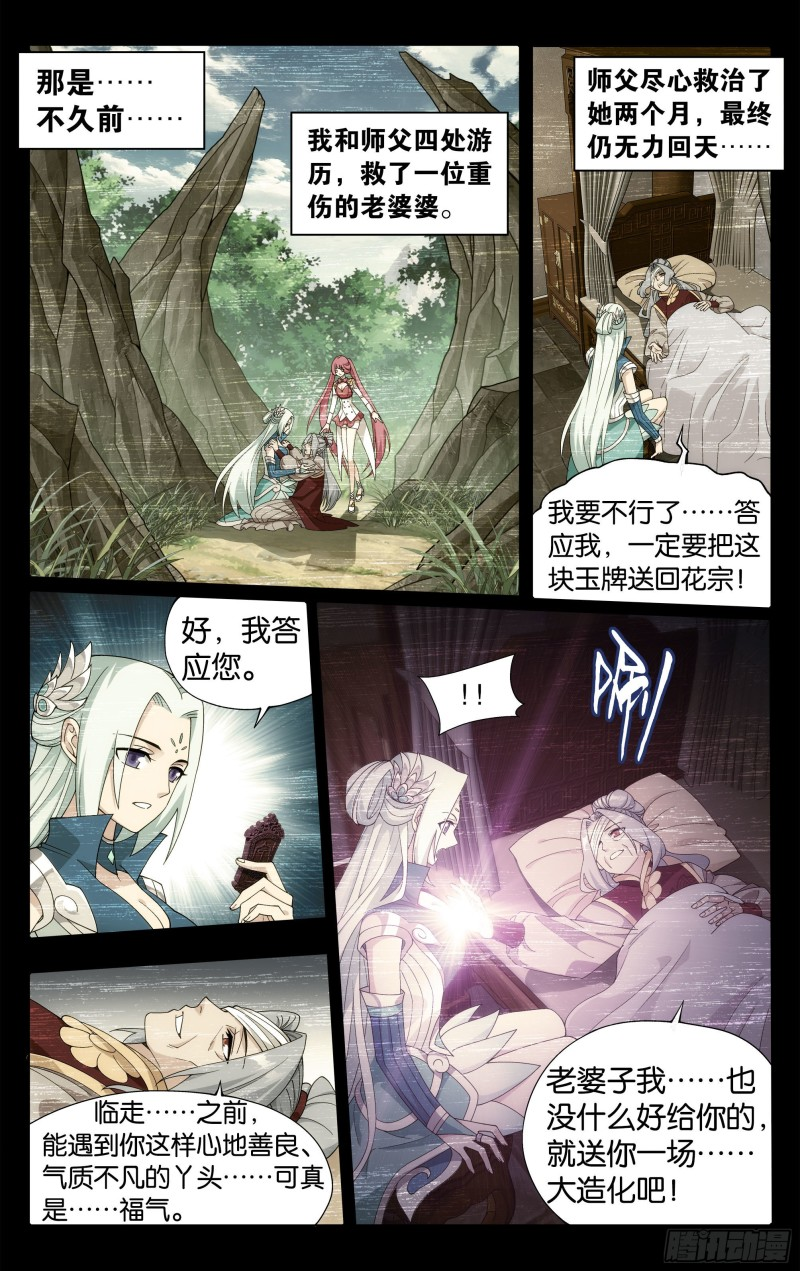boxBomb: (417, 649, 528, 739)
boxCube: (282, 110, 516, 236), (567, 50, 788, 176), (12, 47, 210, 155)
boxEllipse: (516, 1003, 780, 1231), (21, 1081, 329, 1227), (525, 437, 774, 610), (162, 586, 312, 721)
minBox: (303, 586, 792, 1237), (18, 38, 534, 604), (525, 35, 783, 616), (18, 586, 333, 940), (21, 946, 351, 1228)
